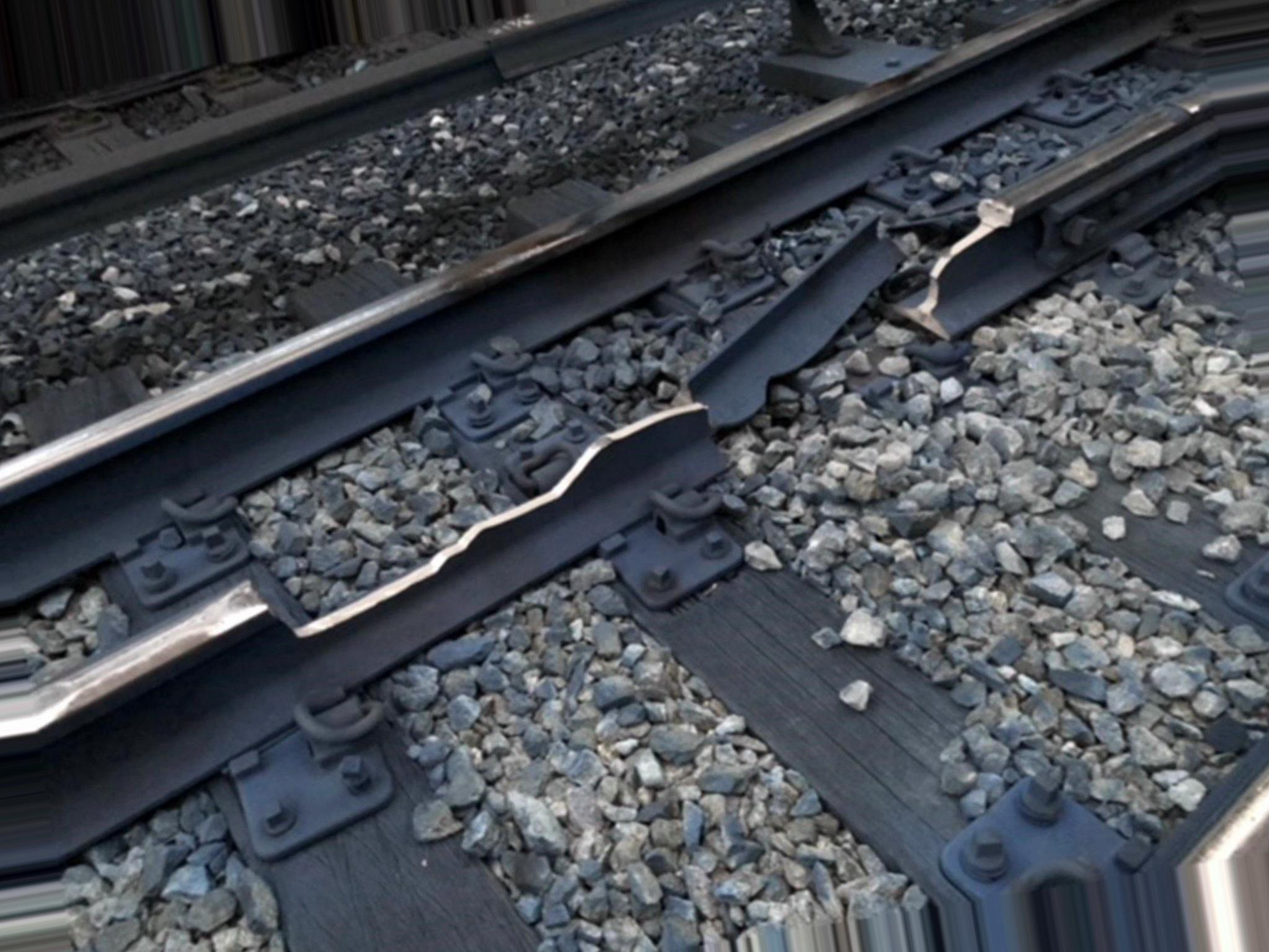tracks_fault: (141, 183, 1172, 681)
